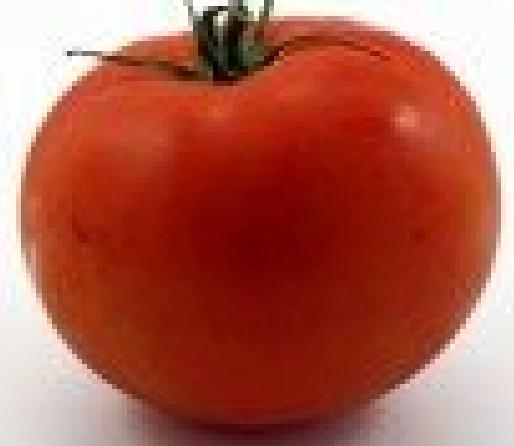tomato: (9, 12, 494, 436)
